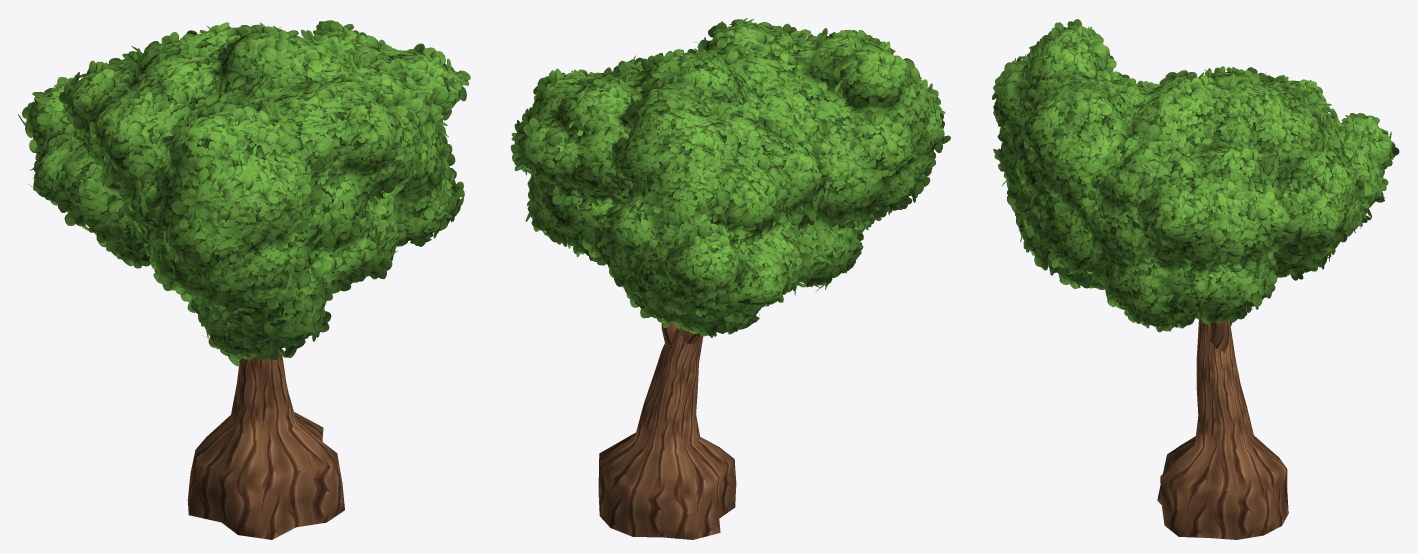
The model's file is maple_v2.gltf.
3 renders of one model, left to right at view 1: azimuth 30°, elevation 25°; view 2: azimuth 150°, elevation 25°; view 3: azimuth 270°, elevation 25°, orthographic. The views are drawn at different scales.
Parts seen in each view (by area): view 1: maple_v2_leaves_LOD0, maple_v2_volume_LOD0, maple_v2_trunk_LOD0; view 2: maple_v2_leaves_LOD0, maple_v2_volume_LOD0, maple_v2_trunk_LOD0; view 3: maple_v2_leaves_LOD0, maple_v2_volume_LOD0, maple_v2_trunk_LOD0.
Boxes of the visible parts, bbox=[...] form: maple_v2_leaves_LOD0: bbox=[18, 20, 470, 366]; maple_v2_volume_LOD0: bbox=[26, 27, 459, 354]; maple_v2_trunk_LOD0: bbox=[187, 352, 344, 539]; maple_v2_leaves_LOD0: bbox=[510, 18, 950, 337]; maple_v2_volume_LOD0: bbox=[518, 21, 940, 330]; maple_v2_trunk_LOD0: bbox=[598, 321, 736, 539]; maple_v2_leaves_LOD0: bbox=[992, 19, 1399, 332]; maple_v2_volume_LOD0: bbox=[996, 29, 1390, 324]; maple_v2_trunk_LOD0: bbox=[1157, 319, 1288, 539].
Size of what is drawn, in the model's own units: 8.2 by 10.12 by 8.76.
3 materials, 3 textured.
